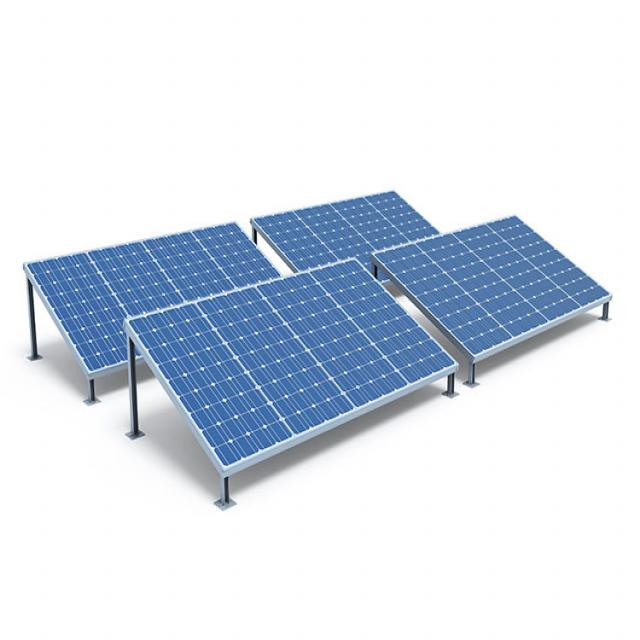no faulty: (123, 260, 449, 471), (29, 226, 285, 380), (377, 211, 609, 356), (257, 195, 434, 269)
